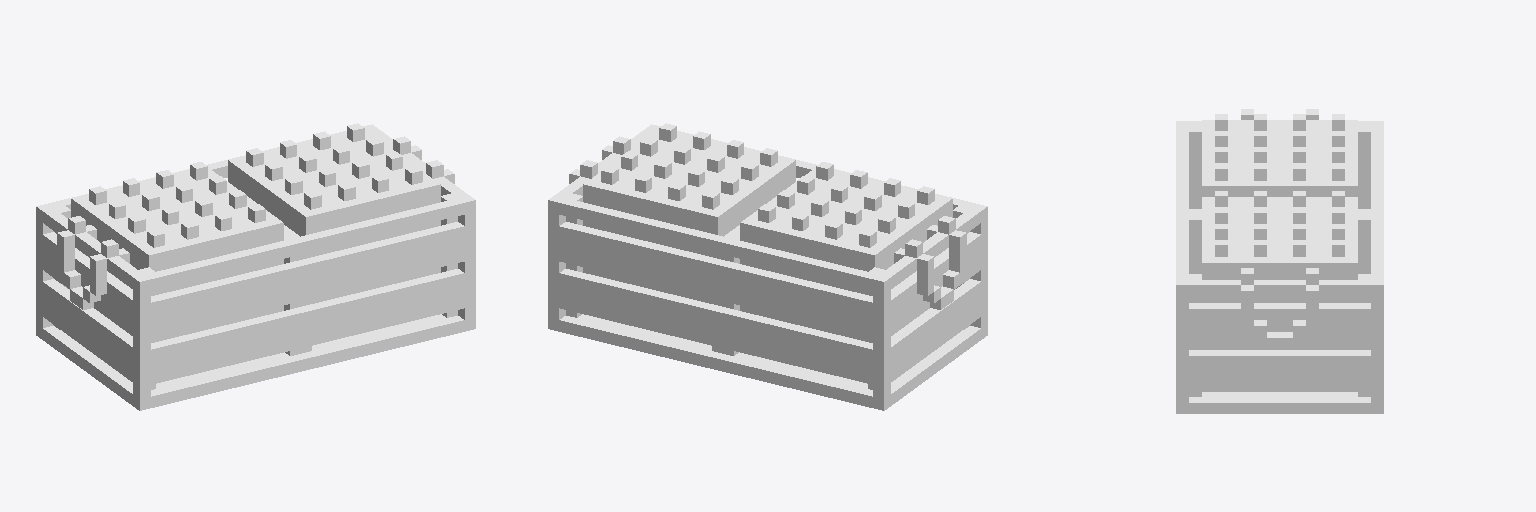
The model's file is DynamiteCrate.obj.
3 views of the same model, side by side, from view 1: azimuth 30°, elevation 25°; view 2: azimuth 150°, elevation 25°; view 3: azimuth 270°, elevation 25° (orthographic).
Visible parts, largest first — view 1: object 1; view 2: object 1; view 3: object 1.
Boxes of the visible parts, box(x1,y1,x2,y2) form: object 1: box(36, 123, 475, 410); object 1: box(548, 123, 987, 410); object 1: box(1176, 109, 1383, 413).
Bounding box in the file's own units: 3.2 × 1.3 × 1.6.